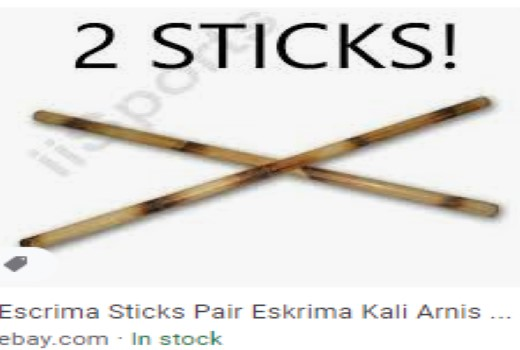baston_e: (77, 95, 447, 249), (60, 108, 463, 223)
baston_v: (18, 224, 63, 260), (27, 102, 58, 128), (470, 87, 496, 116), (483, 192, 506, 222)
